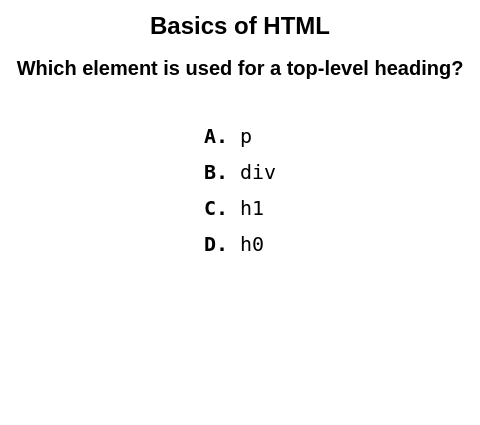
QuizScreen component within App › when the user clicks 'Next' › should show the next question
Click the list item with test id "choice-1" at (258, 172), box [240,160,276,184]
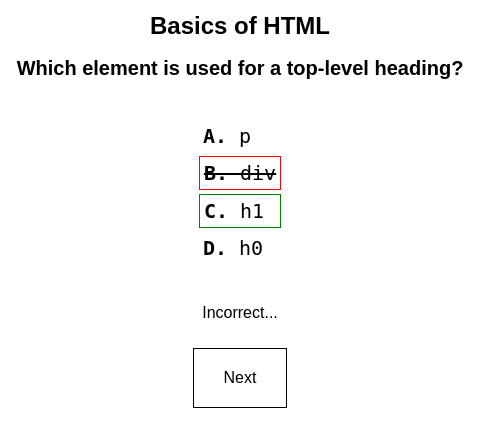
Click the button with test id "next-button" at (240, 378), box [192,348,287,408]
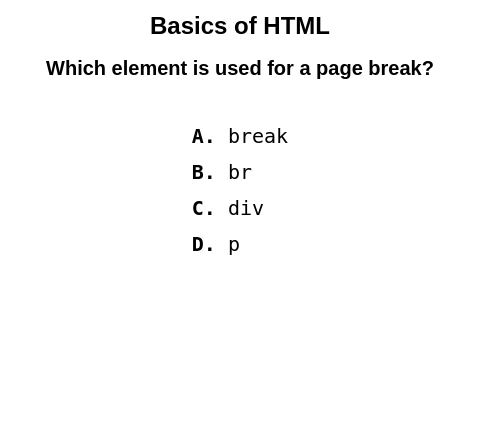
Check: the heading with test id "question-1" reads "Which element is used for a page break?", box [46,57,434,79]
